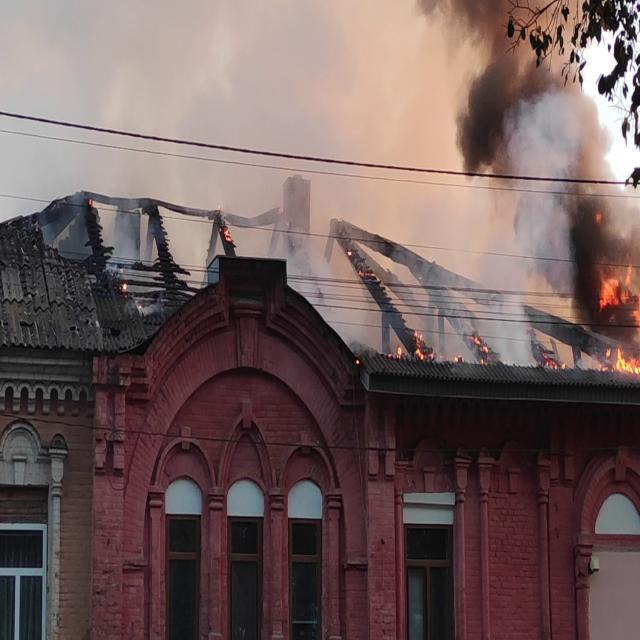fire: (599, 273, 640, 375)
smoke: (519, 102, 579, 256), (464, 74, 506, 172)
